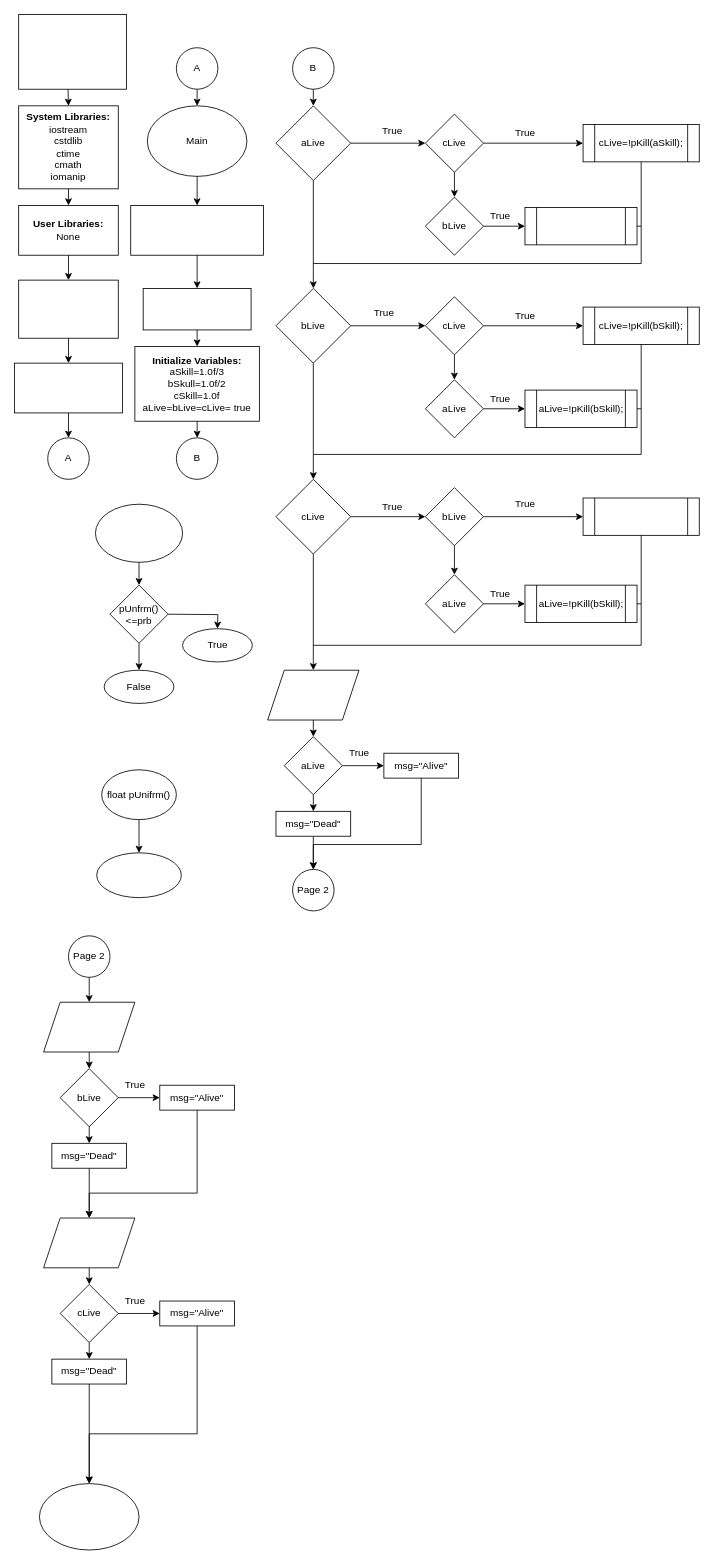
Image size: 714x1565. Some labels were removed from this diagram. Here are the shapes that lost their labels. From the top down, the centre of each, then its label:
(x=72, y=51): Author: Jacob Gower Date: 01/29/2021 Purpose: Shootout Game
(x=197, y=230): Set Random Number Seed: srand(static_cast<unsigned>(time(0)));
(x=580, y=226): bLive=!pKill(aSkill);
(x=68, y=308): Global Constants: MAXRAND = pow(2,31)-1
(x=196, y=309): Declare Variables: aSkill, bSkill, cSkill; aLive, bLive, cLive;
(x=68, y=387): Function Prototypes: pUnifrm(); pKill(float);
(x=139, y=532): bool pKill(float prb)
(x=640, y=516): bLive=!pKill(cSkill);
(x=313, y=694): Output: "Aaron is "
(x=138, y=875): rand()/MAXRAND
(x=89, y=1026): Output: "Bob is "
(x=89, y=1242): Output: "Charlie is "
(x=89, y=1516): Return from Shootout Game
